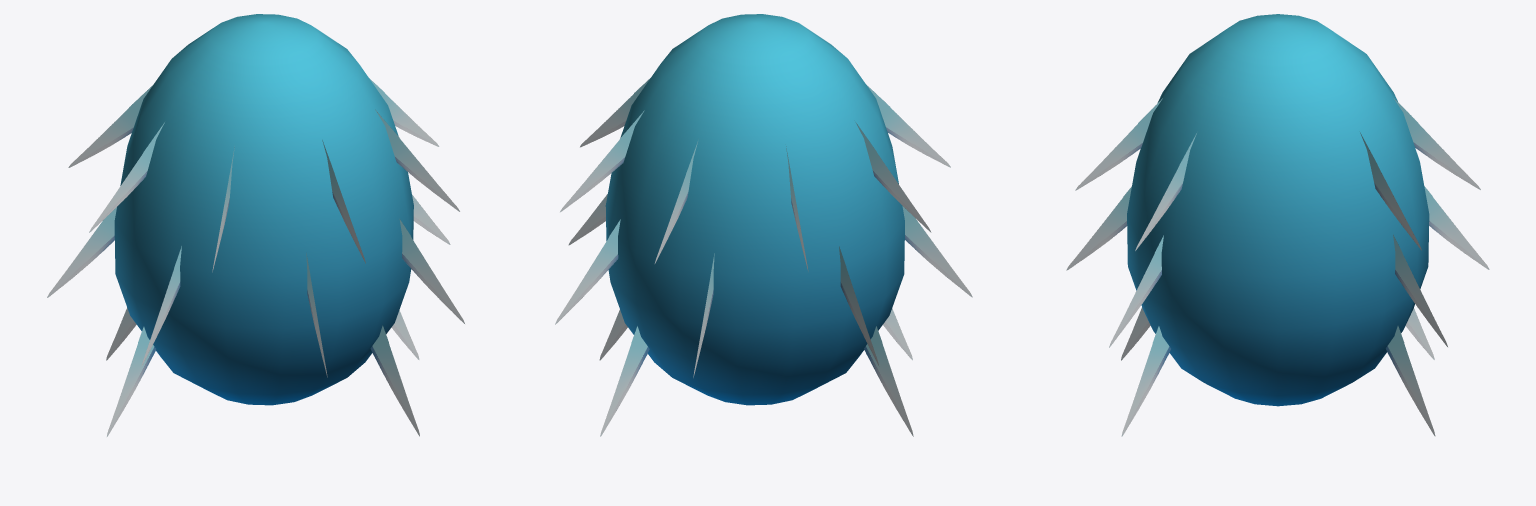
The model's file is egg2map3.fbx.
3 renders of one model, left to right at view 1: azimuth 30°, elevation 25°; view 2: azimuth 150°, elevation 25°; view 3: azimuth 270°, elevation 25°, orthographic.
Parts seen in each view (by area): view 1: egg2map3; view 2: egg2map3; view 3: egg2map3.
Boxes of the visible parts, x1,y1,x2,y2 form: egg2map3: [47, 14, 464, 436]; egg2map3: [555, 14, 972, 436]; egg2map3: [1066, 14, 1489, 436].
Size of the model in its own units: 49 by 44.83 by 49.65.
1 material, 1 textured.
